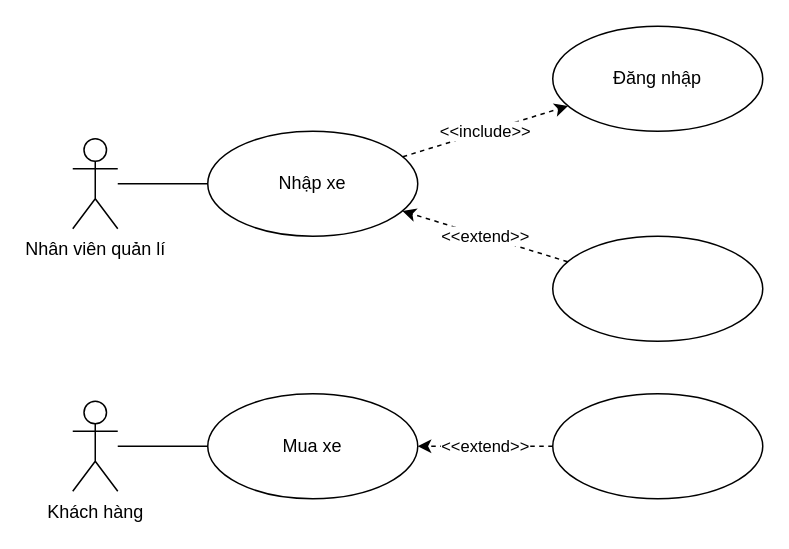
This 789x549 diagram has some shape labels left out. Here are the shapes that lost their labels. From the top down, the centre of each, then its label:
At (657,288): "Xem hóa đơn nhập xe".
At (657,445): "Xem hóa đơn mua xe".
